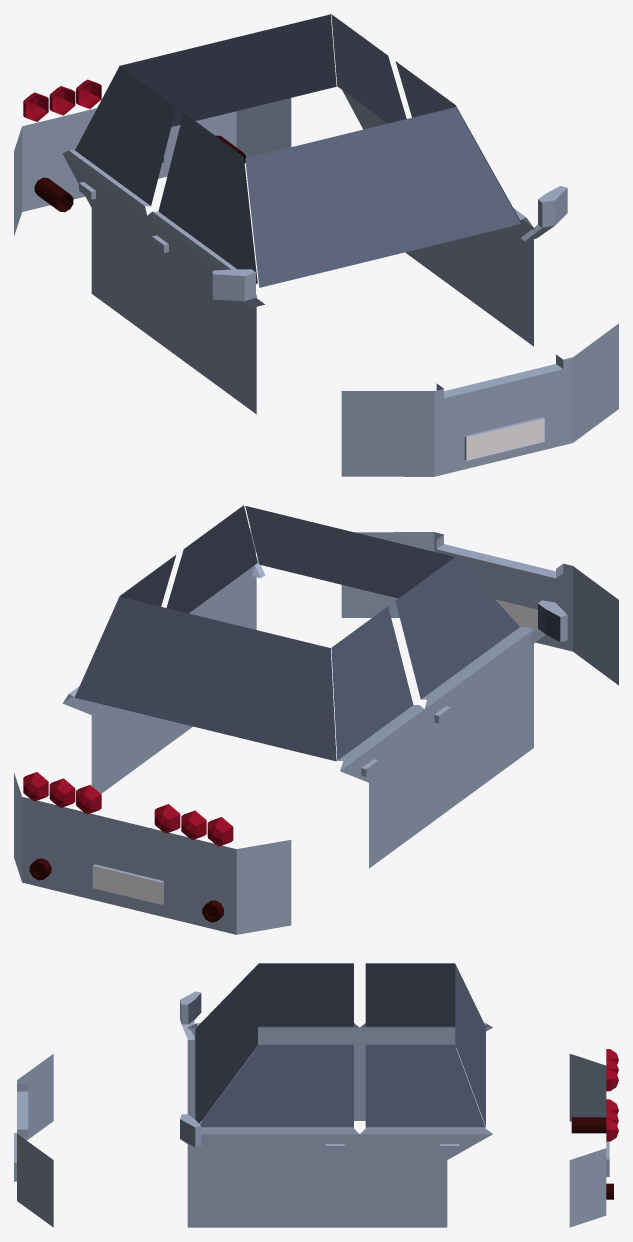
File: car3Bumper1.fbx
3 views of the same model, one above another, from view 1: azimuth 30°, elevation 25°; view 2: azimuth 150°, elevation 25°; view 3: azimuth 270°, elevation 25° (orthographic). The views are drawn at different scales.
Visible parts, largest first — view 1: bumper; view 2: bumper; view 3: bumper.
Boxes of the visible parts, box(x1,y1,x2,y2) form: bumper: box(14, 14, 618, 476); bumper: box(14, 505, 618, 934); bumper: box(14, 963, 618, 1227).
Bounding box in the file's own units: 2.81 × 1.64 × 5.28.
